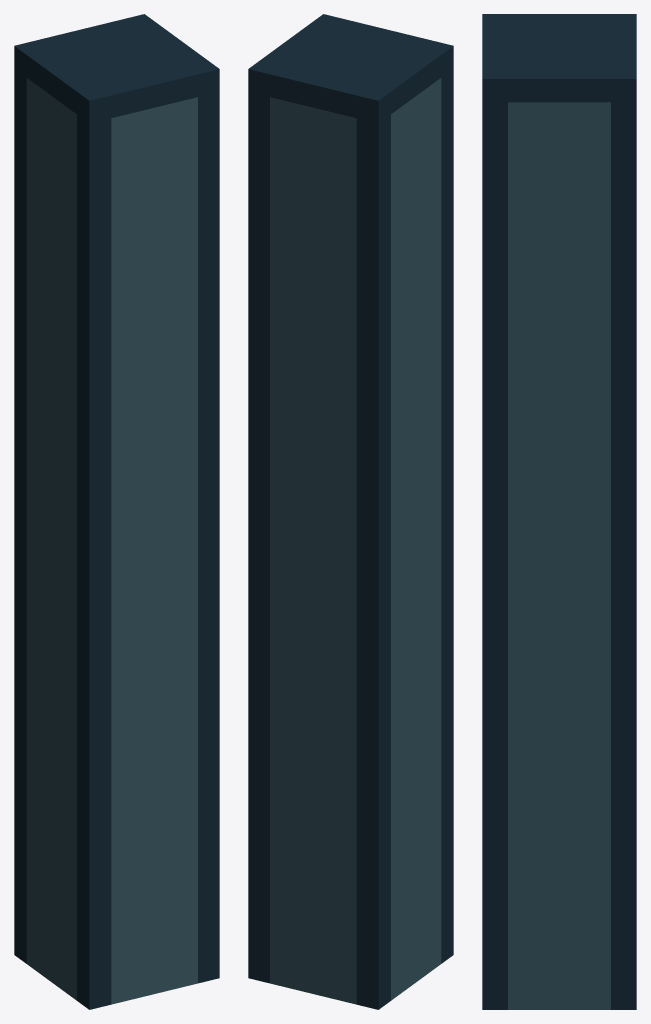
Rendered from stick_short.fbx.
3 renders of one model, left to right at view 1: azimuth 30°, elevation 25°; view 2: azimuth 150°, elevation 25°; view 3: azimuth 270°, elevation 25°, orthographic. The views are drawn at different scales.
Visible parts, largest first — view 1: _10; view 2: _10; view 3: _10.
Boxes of the visible parts, x1,y1,x2,y2 form: _10: (14, 14, 219, 1009); _10: (248, 14, 453, 1009); _10: (482, 14, 636, 1009).
Size of the model in its own units: 6 by 40 by 6.
